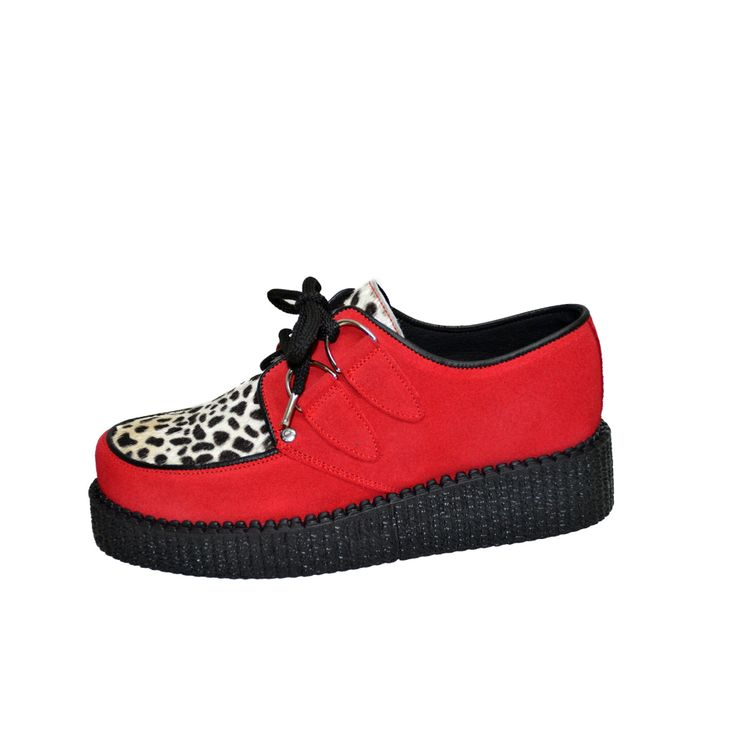gamuza: (95, 280, 603, 527)
